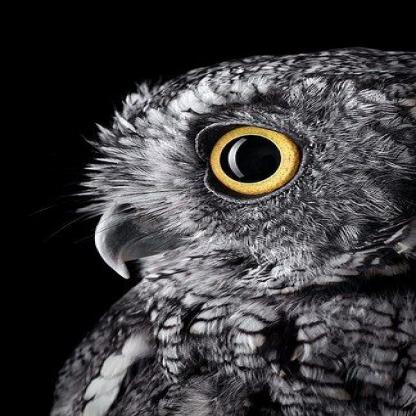owl: (80, 32, 414, 415)
